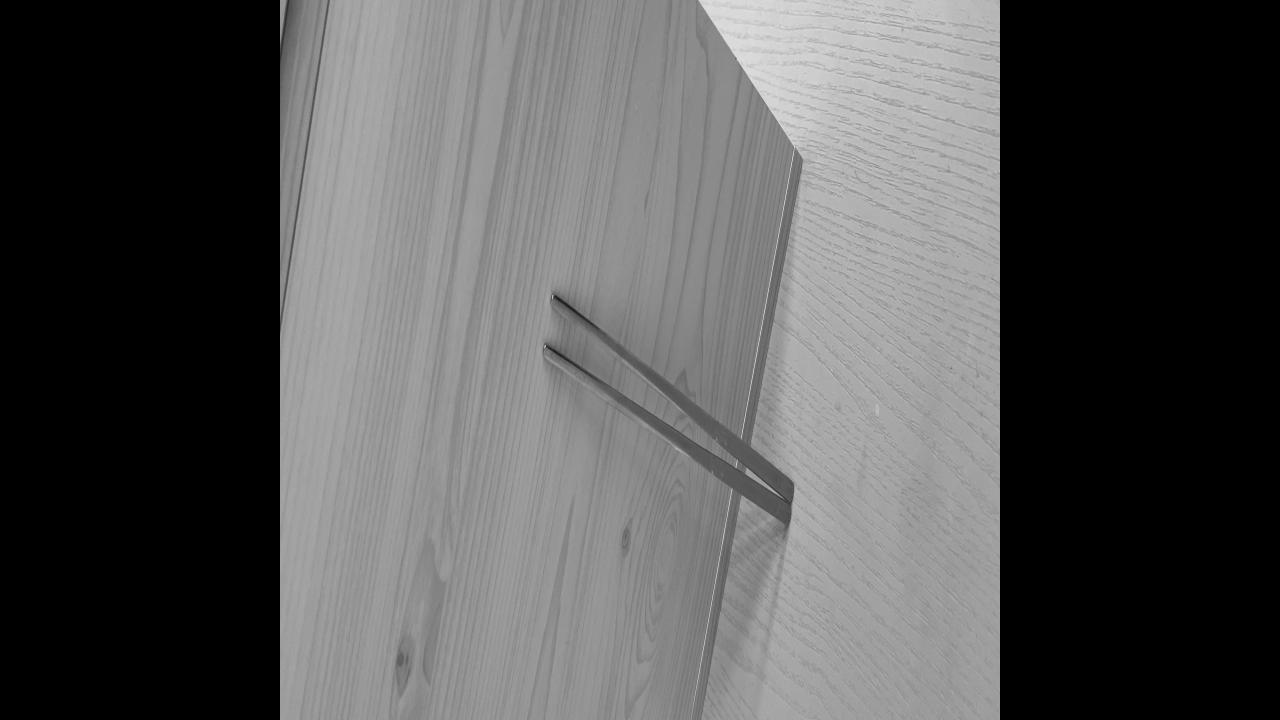chopstick: (542, 290, 798, 534)
